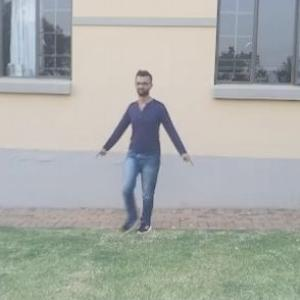land: (91, 72, 201, 239)
